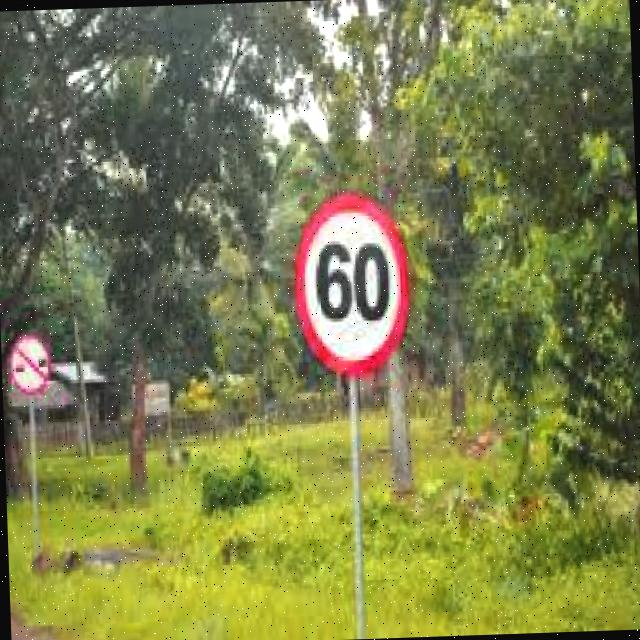Ograniczenie predkosci do 60: (293, 192, 413, 382)
